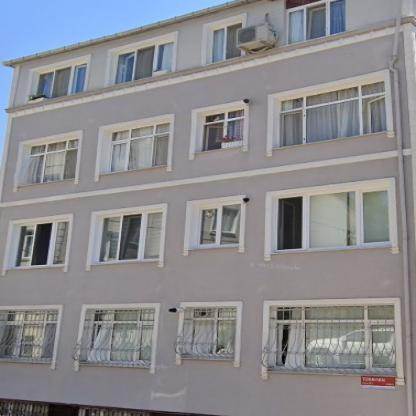window: (274, 305, 397, 372), (278, 80, 389, 147), (277, 187, 391, 251), (87, 308, 154, 363), (98, 210, 162, 262), (108, 121, 170, 173), (1, 310, 59, 360), (113, 38, 176, 84), (24, 136, 80, 185), (288, 0, 346, 44), (13, 221, 68, 267), (186, 308, 236, 356), (33, 61, 85, 100), (201, 108, 245, 152), (198, 202, 240, 246), (210, 20, 242, 63)
